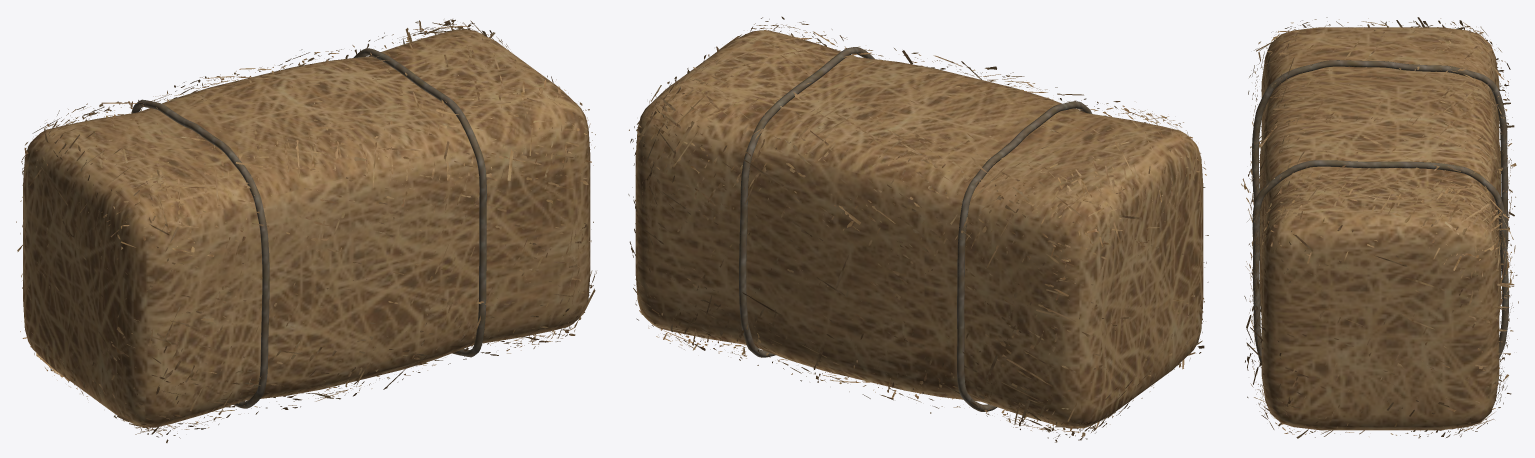
File: hay_bale.obj
The picture shows the model from 3 angles, left to right: view 1: azimuth 30°, elevation 25°; view 2: azimuth 150°, elevation 25°; view 3: azimuth 270°, elevation 25°; orthographic projection. The views are drawn at different scales.
Visible parts, largest first — view 1: Hay_bale_Hay_bale_latest:Hay_Hay_bale_latest:Hay_bale1_0; view 2: Hay_bale_Hay_bale_latest:Hay_Hay_bale_latest:Hay_bale1_0; view 3: Hay_bale_Hay_bale_latest:Hay_Hay_bale_latest:Hay_bale1_0.
Boxes of the visible parts, x1,y1,x2,y2 form: Hay_bale_Hay_bale_latest:Hay_Hay_bale_latest:Hay_bale1_0: [16, 19, 596, 442]; Hay_bale_Hay_bale_latest:Hay_Hay_bale_latest:Hay_bale1_0: [628, 16, 1208, 442]; Hay_bale_Hay_bale_latest:Hay_Hay_bale_latest:Hay_bale1_0: [1241, 17, 1518, 438].
Bounding box in the file's own units: 1.79 × 0.9778 × 0.9709.
Materials: 1 (1 with a texture image).
